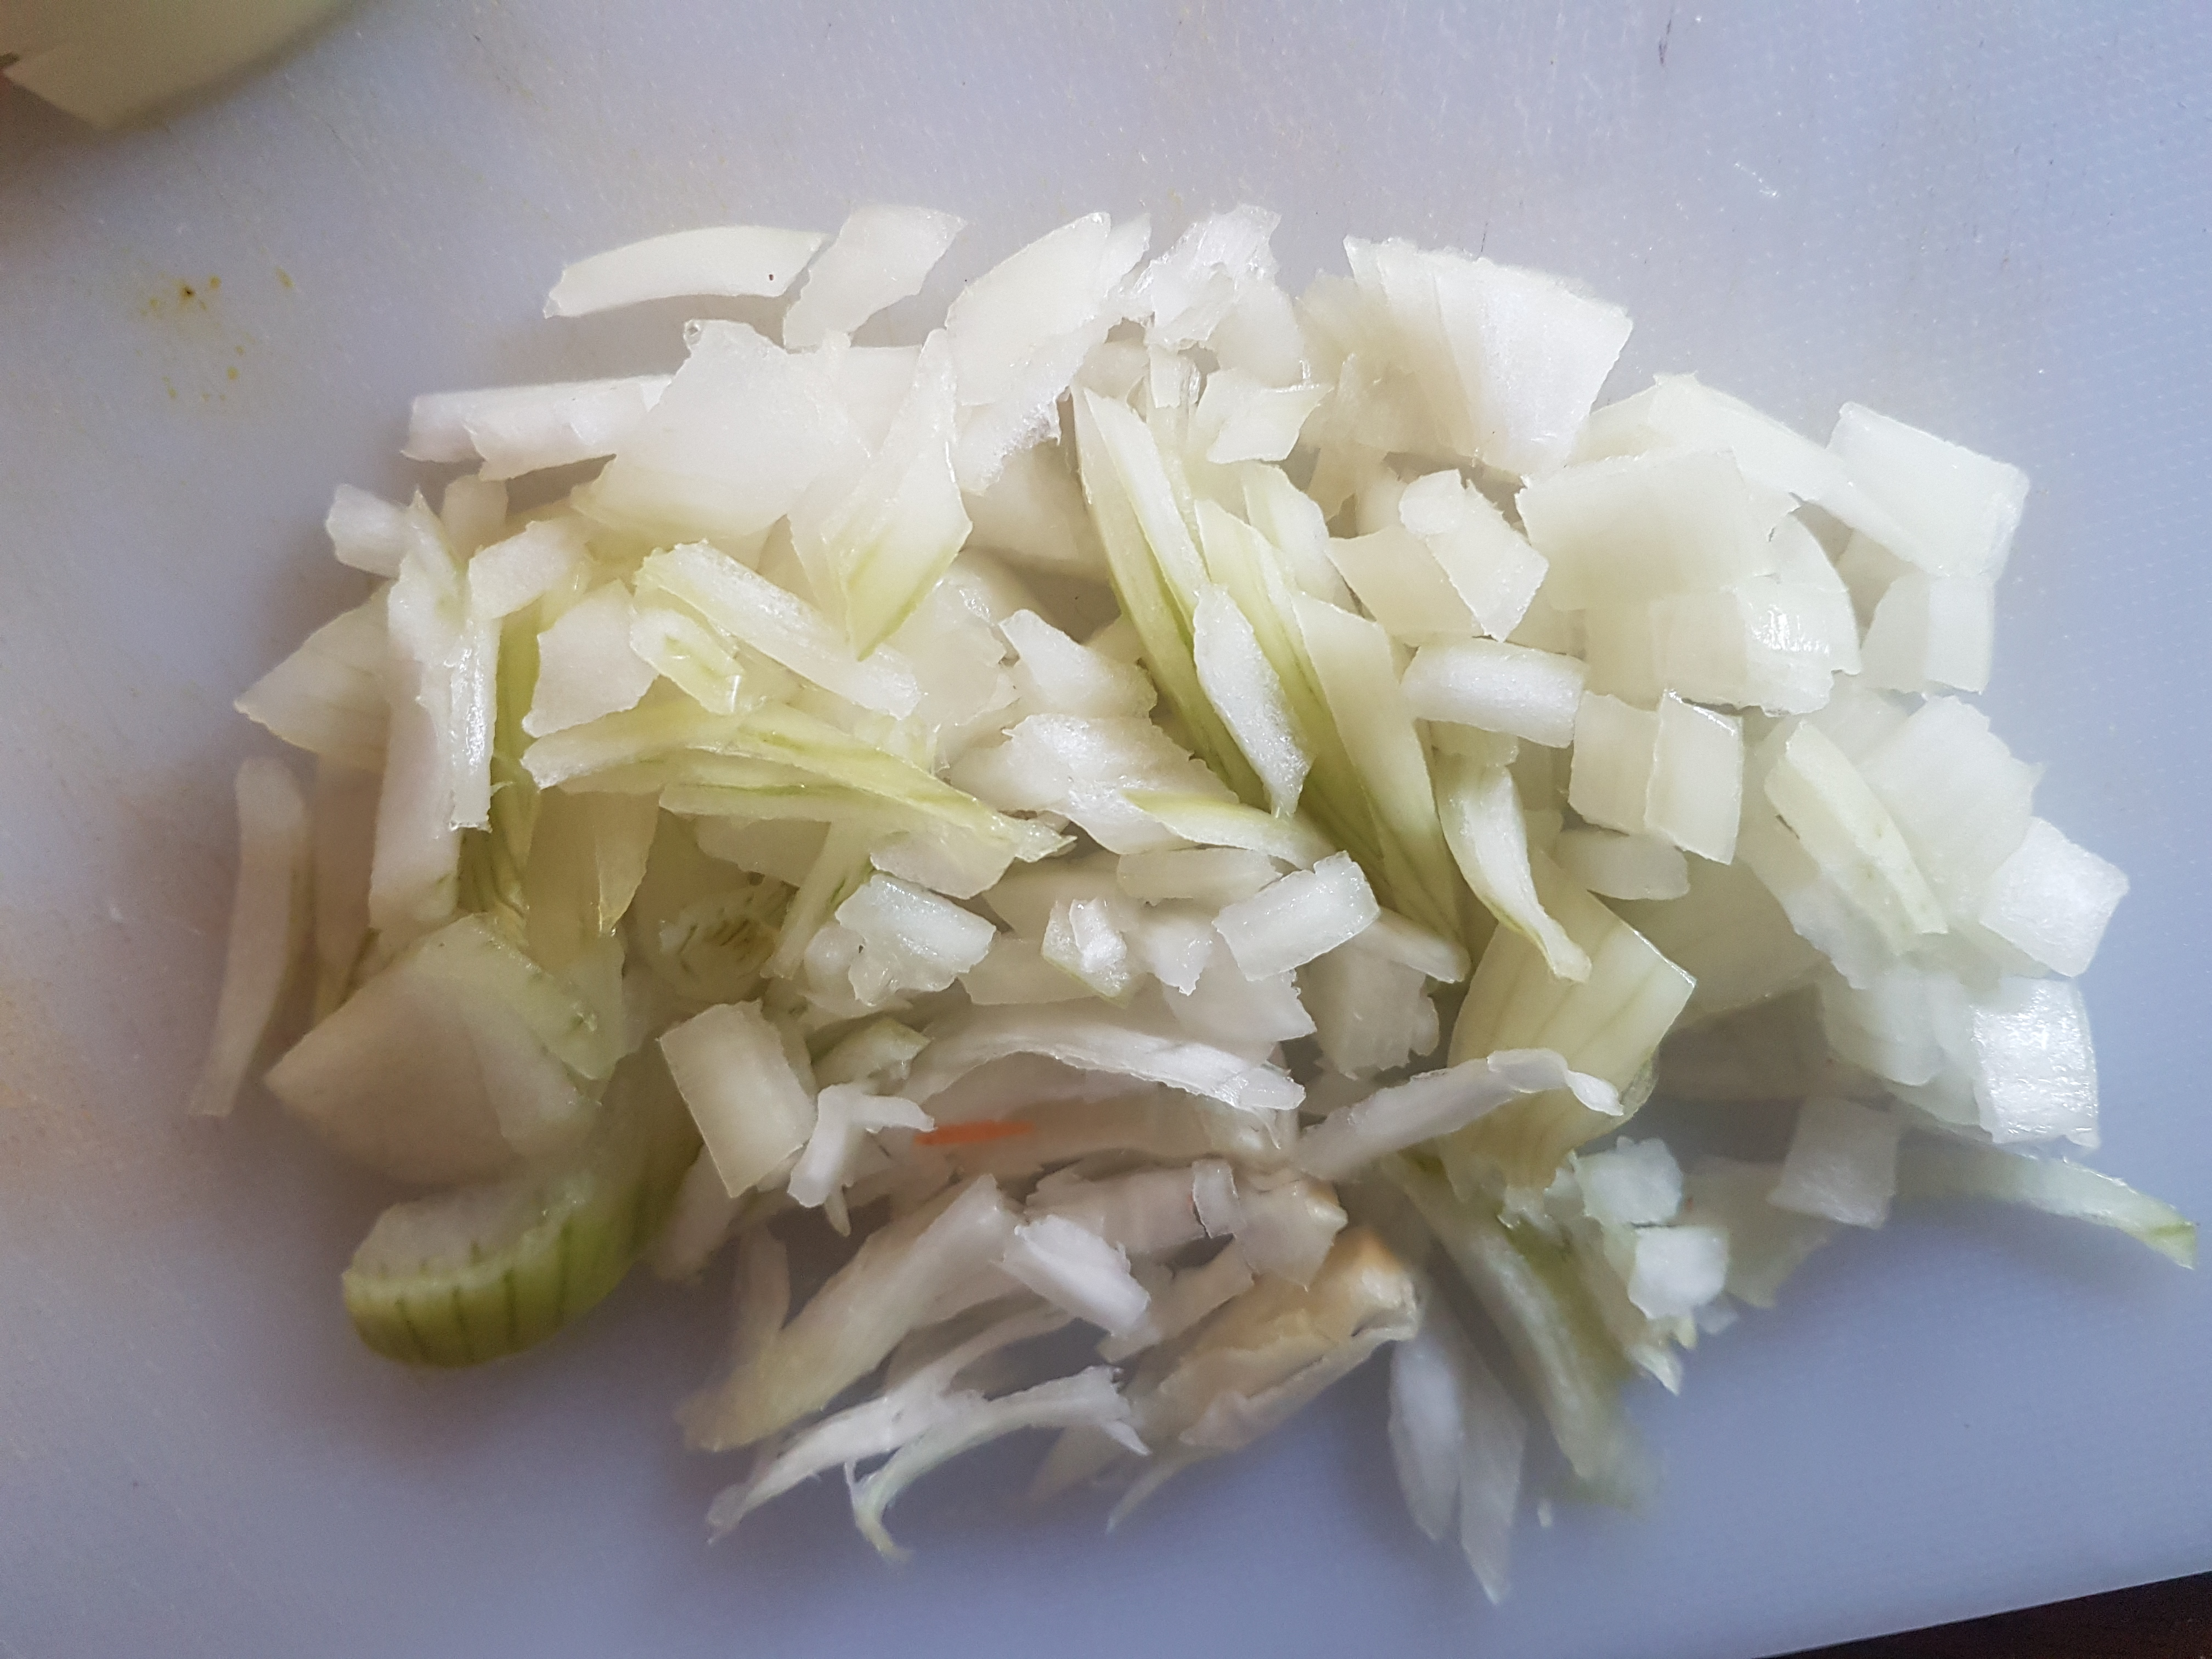Onions: (211, 94, 2184, 1582)
